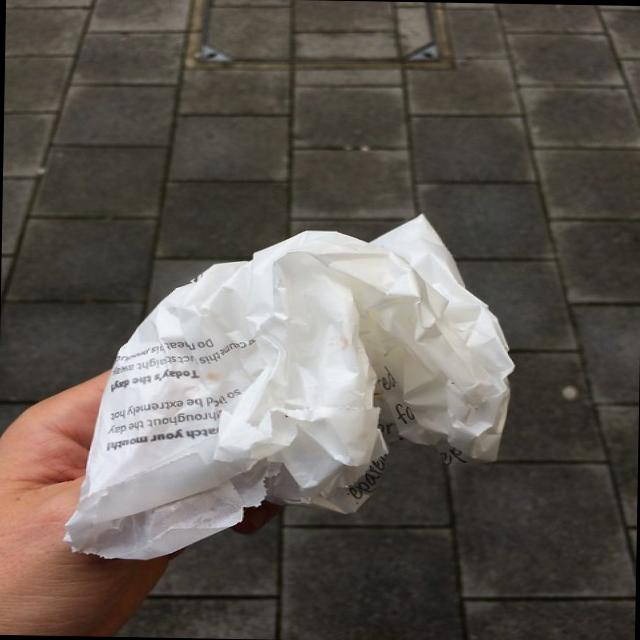Recycle: (91, 226, 514, 558)
